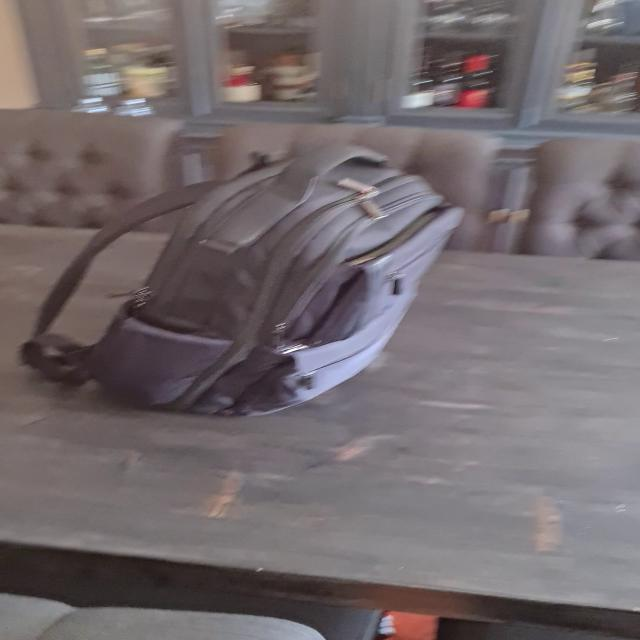backpack: (54, 126, 473, 422)
